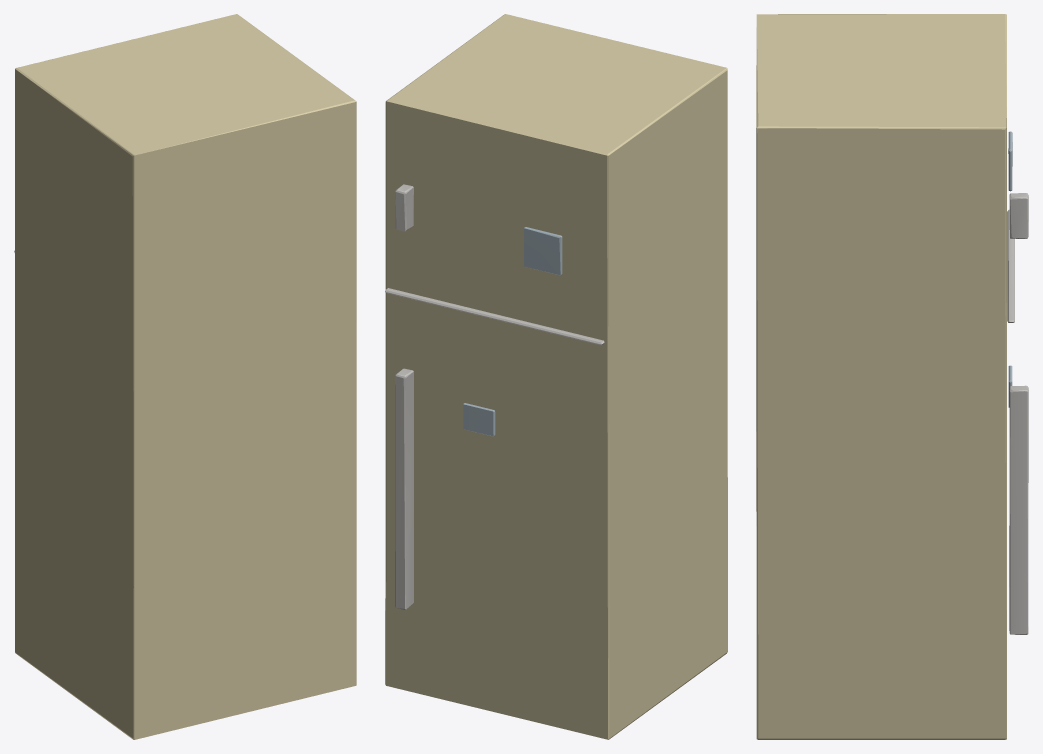
File: furn_fridge__butter_low.glb
3 renders of one model, left to right at view 1: azimuth 30°, elevation 25°; view 2: azimuth 150°, elevation 25°; view 3: azimuth 270°, elevation 25°, orthographic. The views are drawn at different scales.
Size of the model in its own units: 0.7 by 1.75 by 0.7043.
